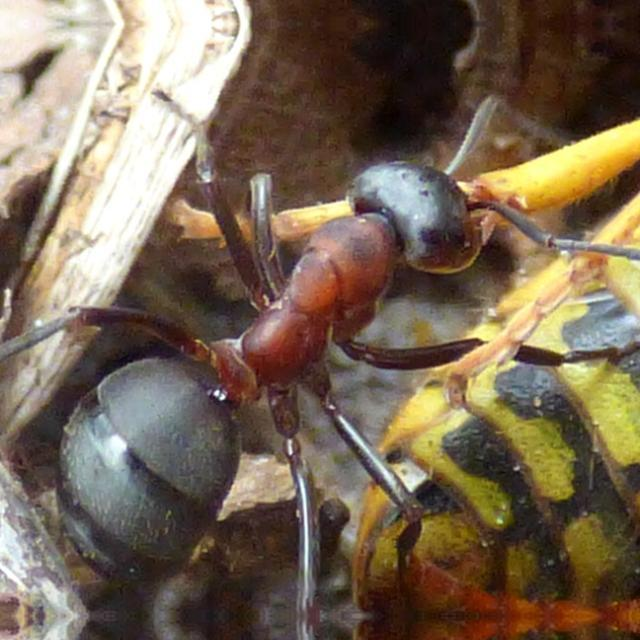Formica: (39, 98, 527, 580)
